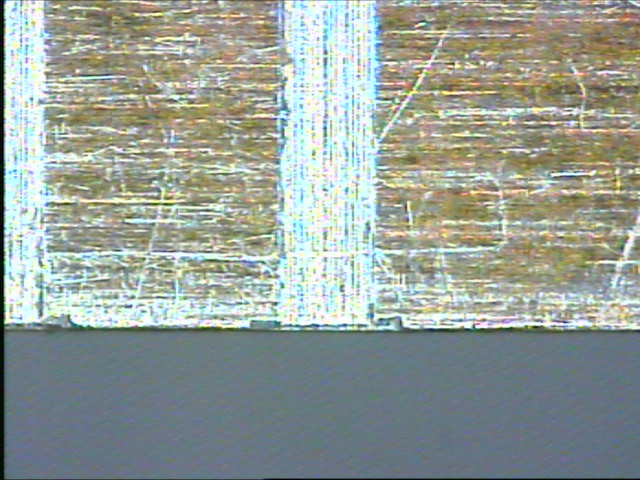line: (272, 1, 381, 322)
